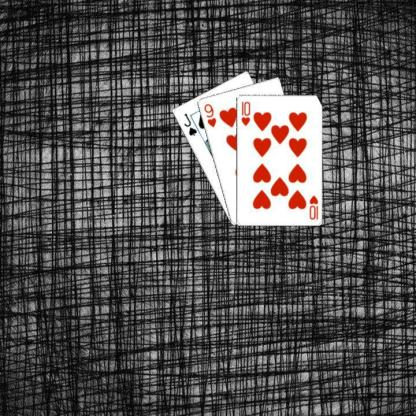10H: (307, 192, 319, 221), (238, 99, 250, 126)
9H: (201, 101, 217, 128)
JS: (181, 111, 198, 137)
